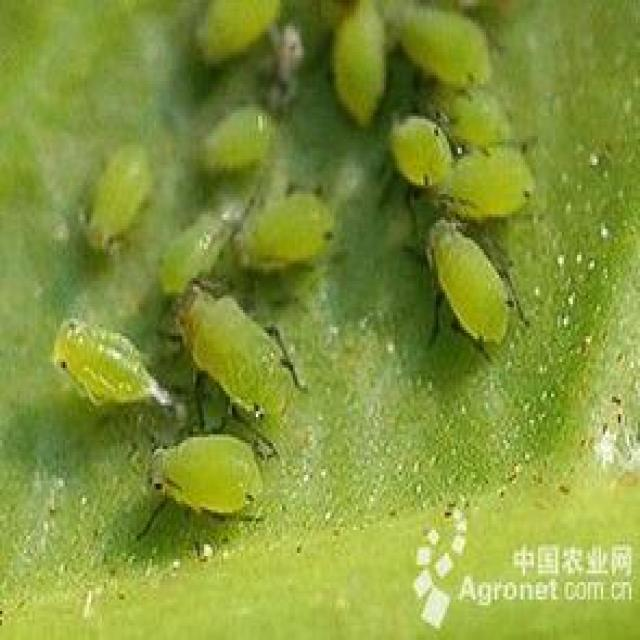Aphids: (114, 392, 292, 563), (389, 218, 550, 378), (166, 288, 328, 435), (34, 288, 183, 418), (383, 105, 535, 227)
